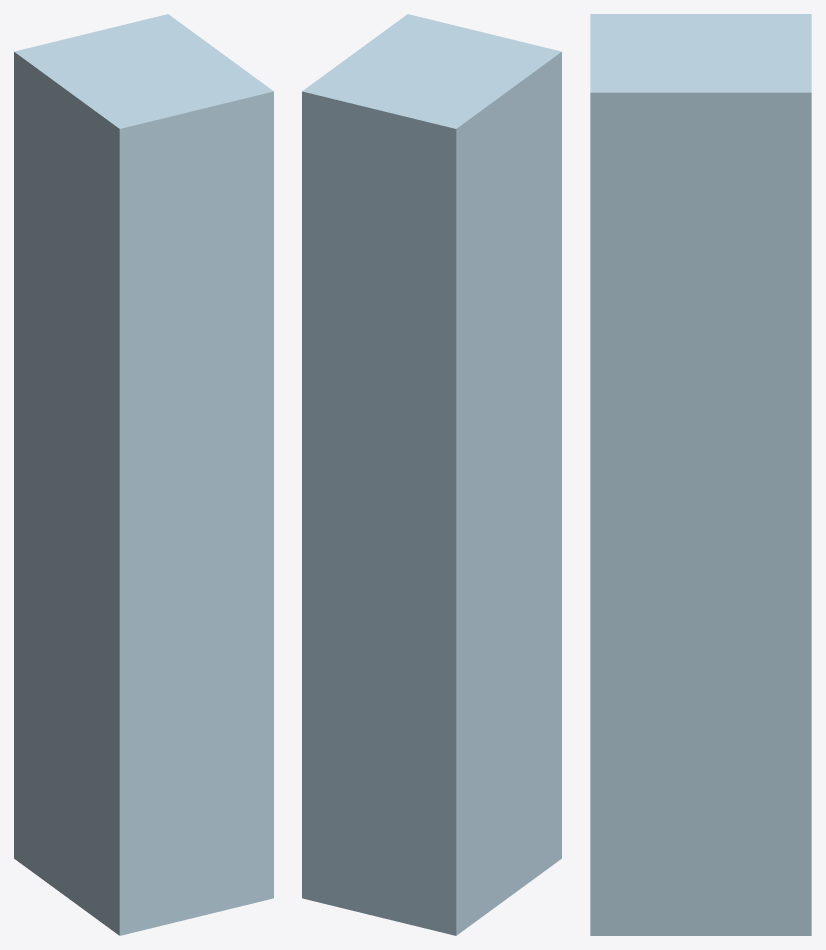
Rendered from pod_container_40hc_lod1.glb.
3 views of the same model, side by side, from view 1: azimuth 30°, elevation 25°; view 2: azimuth 150°, elevation 25°; view 3: azimuth 270°, elevation 25° (orthographic). The views are drawn at different scales.
Parts seen in each view (by area): view 1: Pod container; view 2: Pod container; view 3: Pod container.
Part boxes in pixels (x1=…): Pod container: x1=14, y1=17, x2=273, y2=935; Pod container: x1=302, y1=17, x2=561, y2=935; Pod container: x1=590, y1=14, x2=811, y2=935.
Size of the model in its own units: 2.44 by 12.19 by 2.9.
